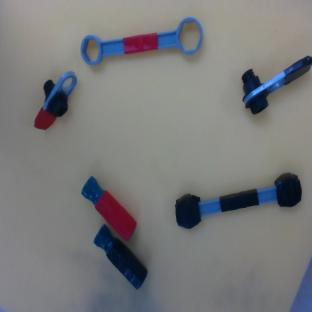part_1_good: (29, 64, 80, 135)
part_2_bad: (89, 222, 153, 291)
part_2_good: (76, 175, 142, 242)
part_3_bad: (171, 170, 305, 231)
part_3_good: (78, 15, 205, 66)
